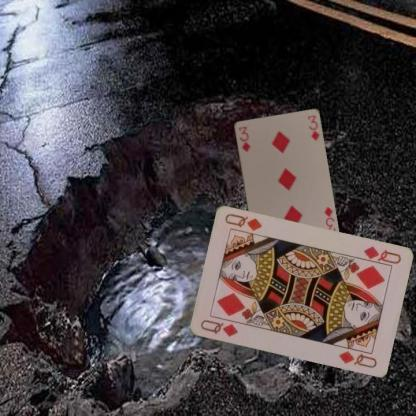3d: (236, 124, 251, 153), (322, 204, 337, 233)
Qd: (356, 244, 402, 268), (198, 317, 239, 339)
